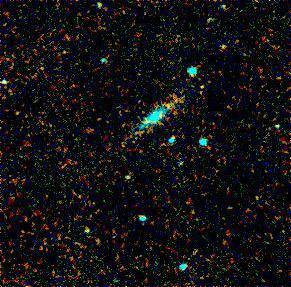star: (208, 32, 238, 62)
